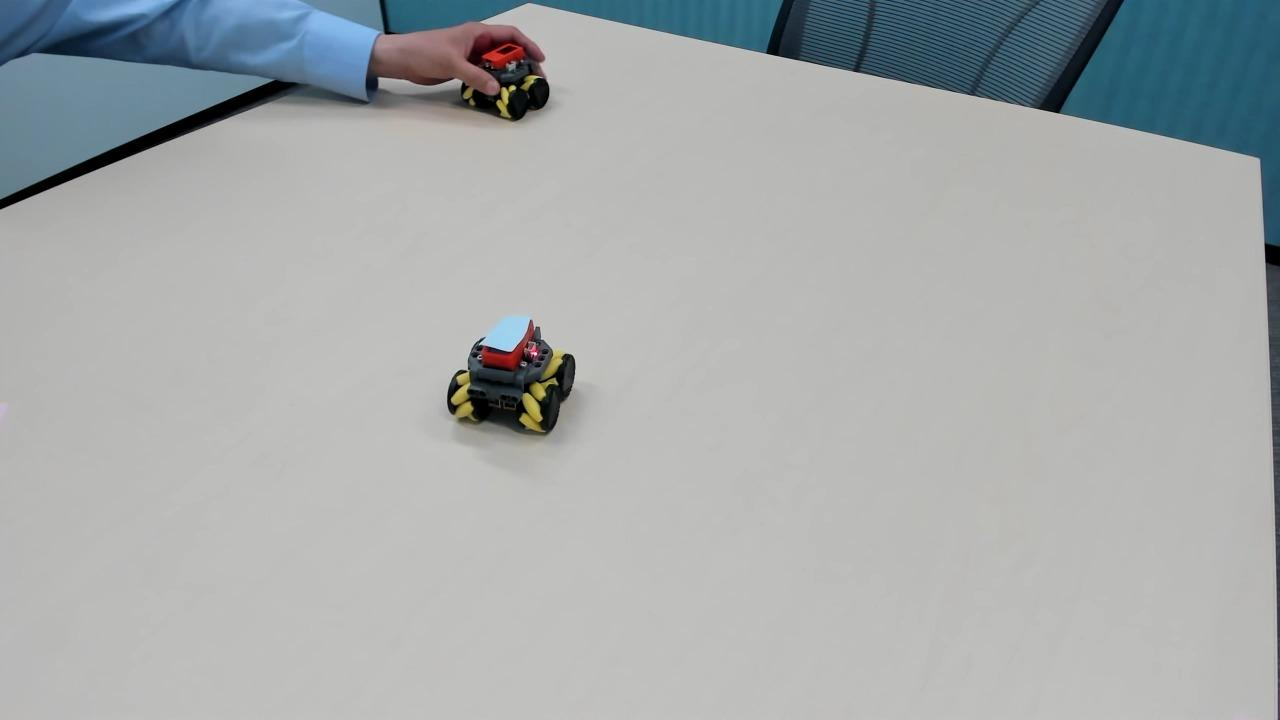B-Robot: (430, 305, 592, 451)
R-Robot: (461, 33, 560, 130)
